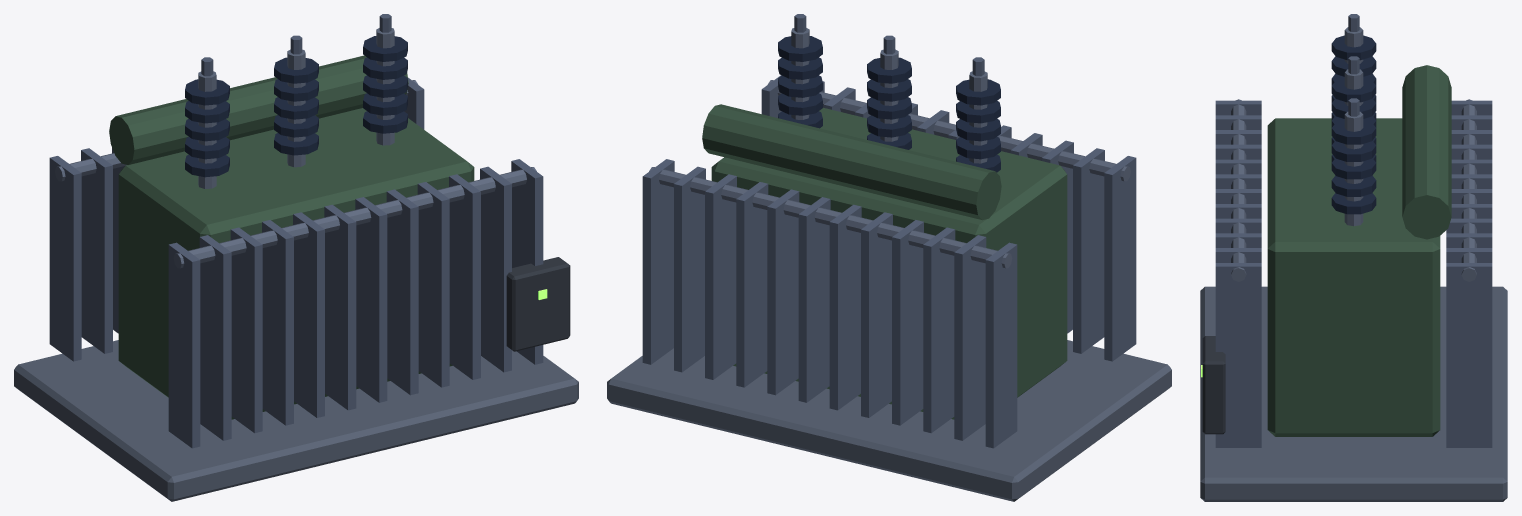
The model's file is power_transformer.glb.
3 views of the same model, side by side, from view 1: azimuth 30°, elevation 25°; view 2: azimuth 150°, elevation 25°; view 3: azimuth 270°, elevation 25° (orthographic). The views are drawn at different scales.
Parts seen in each view (by area): view 1: metal, paint, concrete_raw_cast, glass, machine, container_graphite; view 2: metal, paint, concrete_raw_cast, glass, machine; view 3: paint, metal, concrete_raw_cast, glass, machine, container_graphite.
Part boxes in pixels (x1,y1,x2,y2): metal: [49, 14, 543, 448]; paint: [109, 55, 474, 419]; concrete_raw_cast: [14, 340, 578, 501]; glass: [185, 36, 407, 177]; machine: [55, 28, 536, 268]; container_graphite: [506, 257, 570, 351]; metal: [642, 14, 1136, 448]; paint: [702, 104, 1067, 419]; concrete_raw_cast: [607, 340, 1171, 501]; glass: [778, 36, 1000, 172]; machine: [649, 28, 1130, 268]; paint: [1267, 65, 1451, 436]; metal: [1215, 14, 1492, 447]; concrete_raw_cast: [1200, 286, 1507, 501]; glass: [1331, 35, 1376, 214]; machine: [1231, 27, 1476, 281]; container_graphite: [1202, 336, 1225, 434].
Size of the model in its own units: 6 by 5 by 4.
